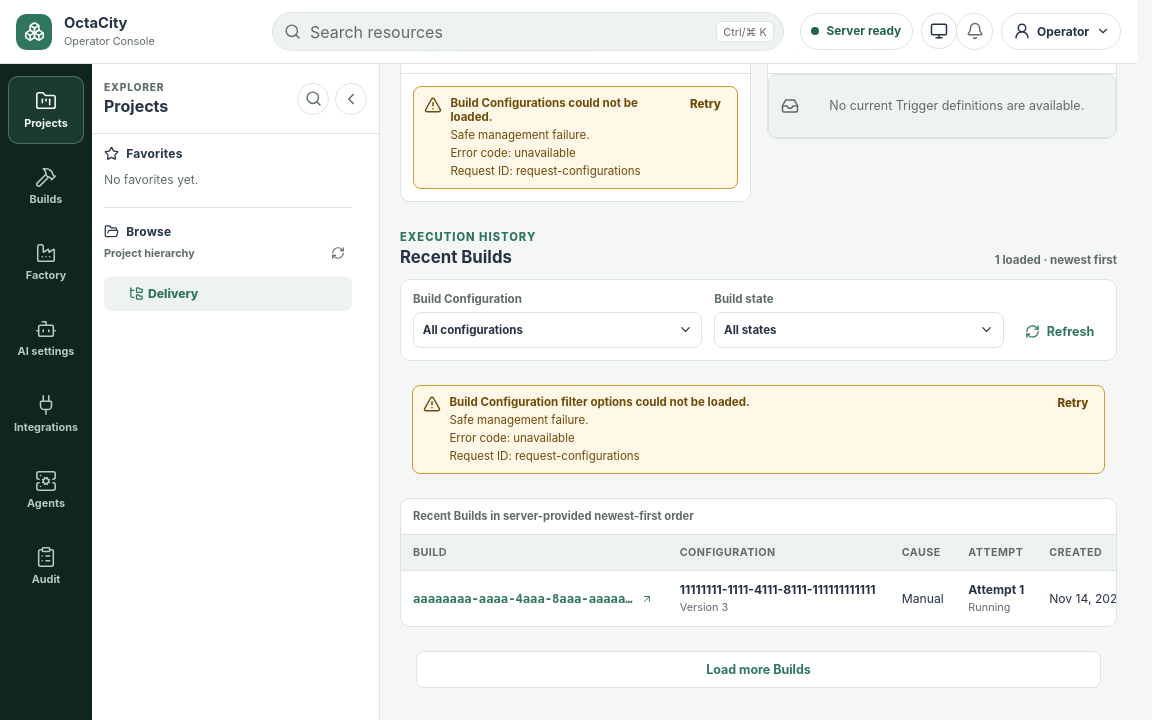
Test case: Project Builds › shows filter-option and Build pagination failures without discarding loaded data
(page scrolled)
Check: the text "Build Configuration filter options could not be loaded." is shown, box [449,395,750,409]
Click the button "Load more Builds" at {"x": 758, "y": 670}, box [416,651,1101,688]
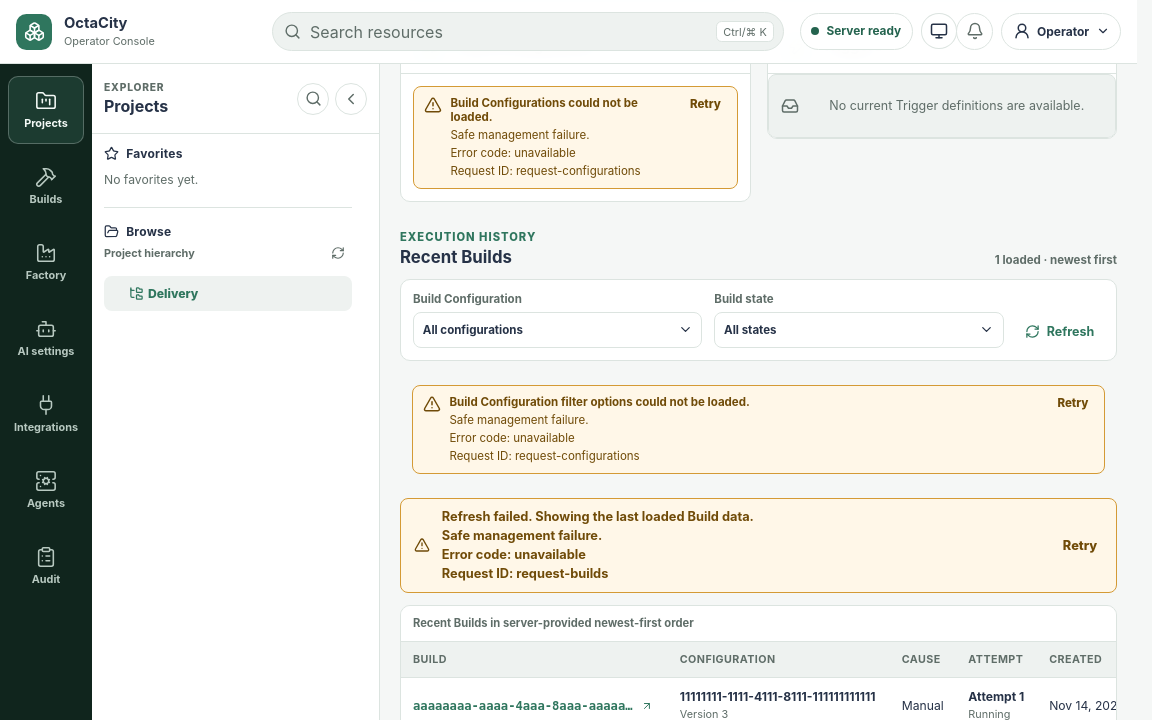
Check: the link "aaaaaaaa-aaaa-4aaa-8aaa-aaaaaaaaaaa1" is shown, box [413,699,653,713]
Check: the text "Refresh failed. Showing the last loaded Build data." is shown, box [442,509,754,524]
